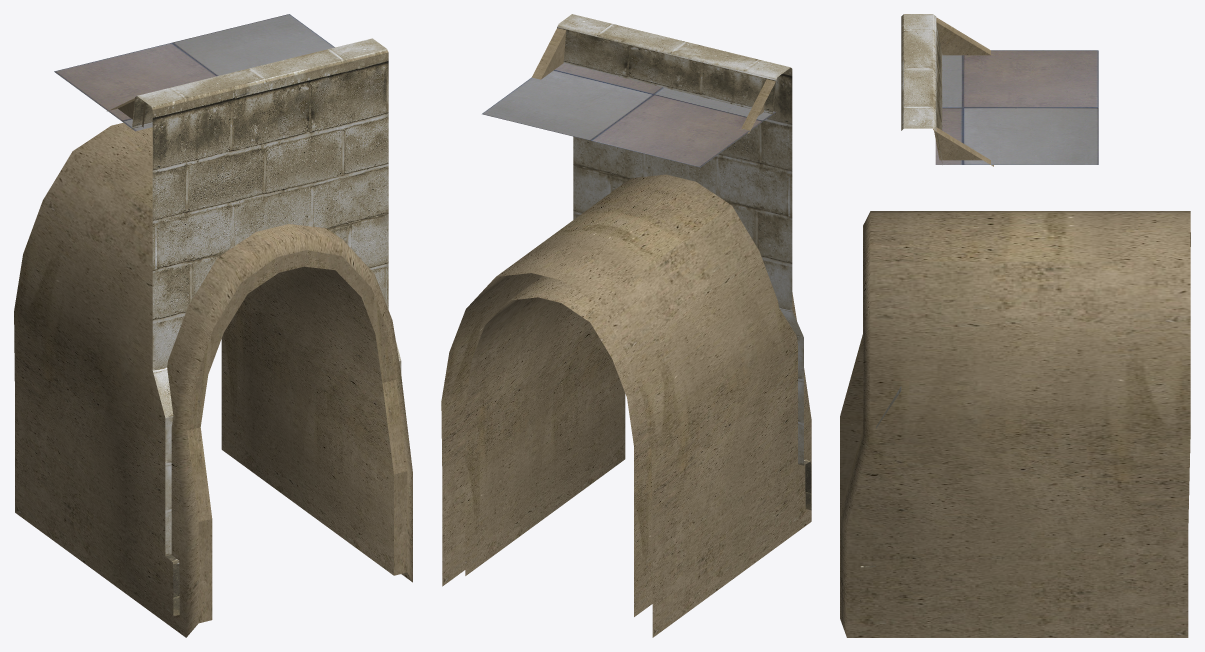
The model's file is caslte-wall-w-gate-small.fbx.
3 views of the same model, side by side, from view 1: azimuth 30°, elevation 25°; view 2: azimuth 150°, elevation 25°; view 3: azimuth 270°, elevation 25° (orthographic). The views are drawn at different scales.
Visible parts, largest first — view 1: caslte-wall-w-gate-small; view 2: caslte-wall-w-gate-small; view 3: caslte-wall-w-gate-small.
Part boxes in pixels (<box>): caslte-wall-w-gate-small: <box>14,14,412,637</box>; caslte-wall-w-gate-small: <box>441,14,811,637</box>; caslte-wall-w-gate-small: <box>840,14,1190,637</box>.
Size of the model in its own units: 200 by 415 by 258.
